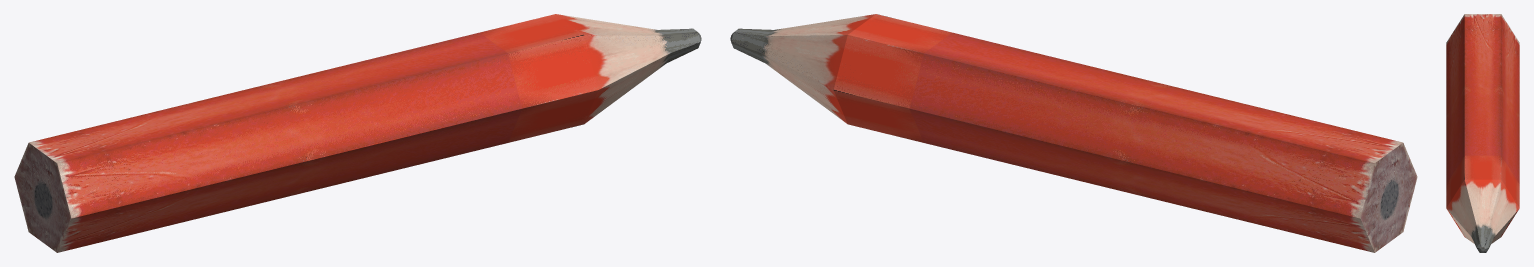
Rendered from pencil.glb.
The picture shows the model from 3 angles, left to right: view 1: azimuth 30°, elevation 25°; view 2: azimuth 150°, elevation 25°; view 3: azimuth 270°, elevation 25°; orthographic projection. The views are drawn at different scales.
Visible parts, largest first — view 1: pencil; view 2: pencil; view 3: pencil.
Part boxes in pixels (x1,y1,x2,y2): pencil: (14,14,701,252); pencil: (730,14,1417,252); pencil: (1446,14,1519,252).
Size of the model in its own units: 0.5524 by 0.0719 by 0.0831.
Materials: 1 (1 with a texture image).
